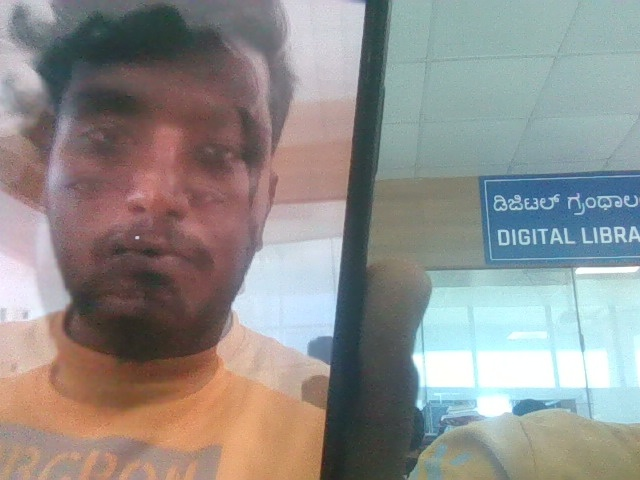fake: (7, 0, 302, 418)
